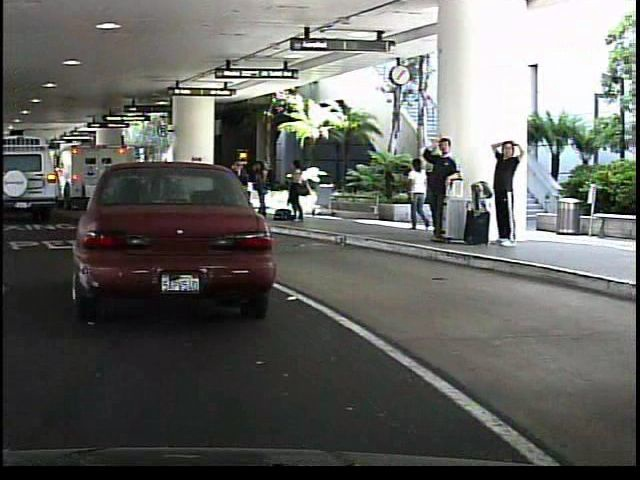person: (417, 134, 461, 245), (488, 130, 526, 246), (406, 154, 428, 235), (283, 156, 309, 223)
